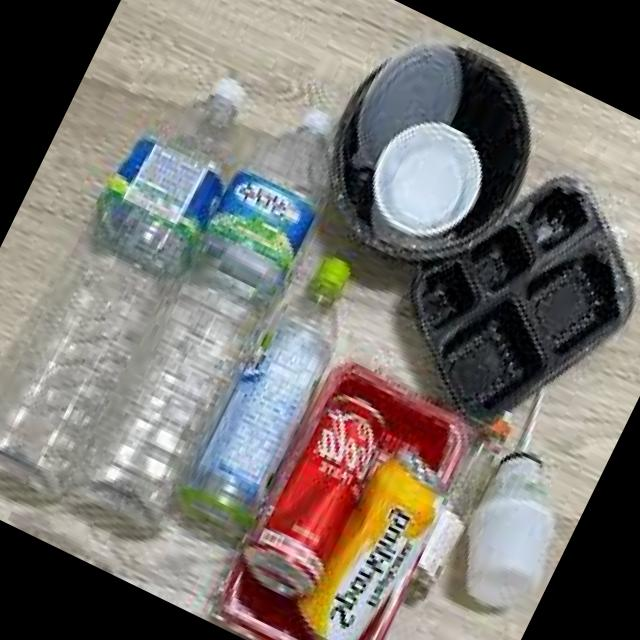can: (232, 378, 400, 614), (282, 438, 457, 640)
disposable straw: (512, 384, 552, 457)
glass bottle: (389, 400, 524, 618)
pet bottle: (0, 33, 278, 524), (59, 85, 358, 532), (168, 232, 378, 544), (456, 441, 568, 619)
plastic-bowl: (202, 351, 494, 640), (411, 160, 640, 430), (321, 34, 537, 263), (341, 32, 469, 182), (360, 119, 480, 241)
